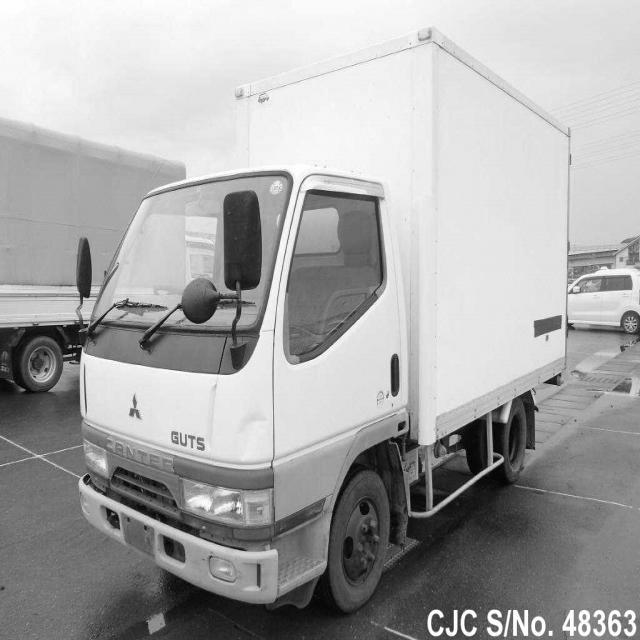truck: (57, 141, 446, 624)
